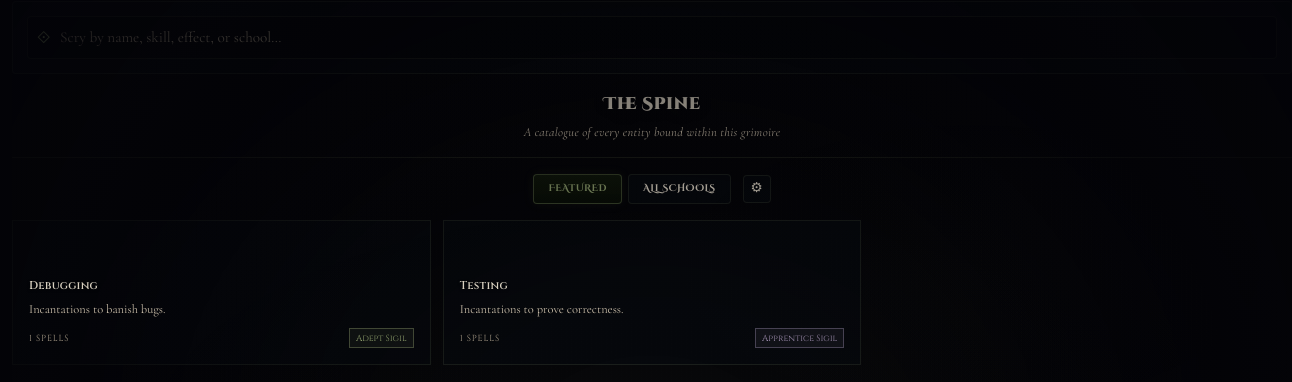
Test case: LibraryContent › shows the empty state when filters return nothing
In the field with placeholder "Scry by name, skill, effect, or school…": (652, 38) [27,16,1277,59], type "no-such-spell"
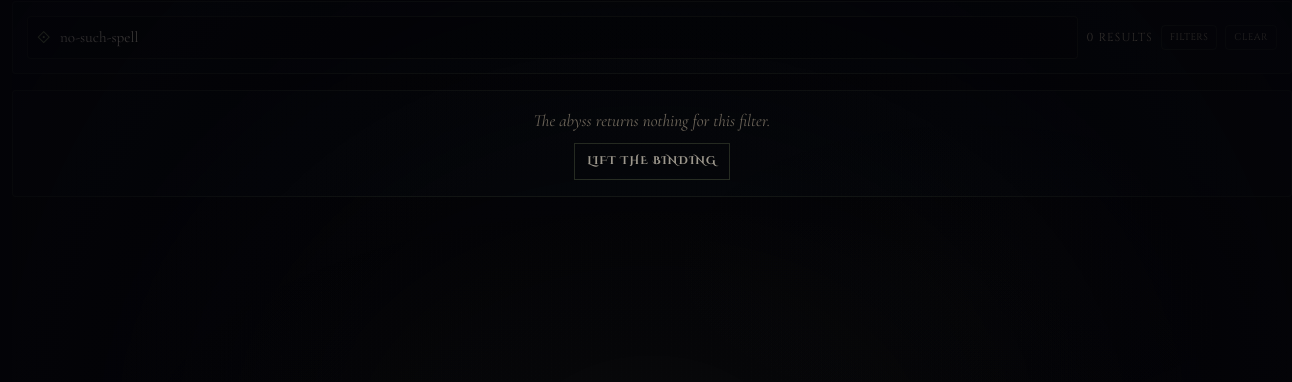
Expected: the text "The abyss returns nothing for this filter." is shown, [534,110,770,131]
